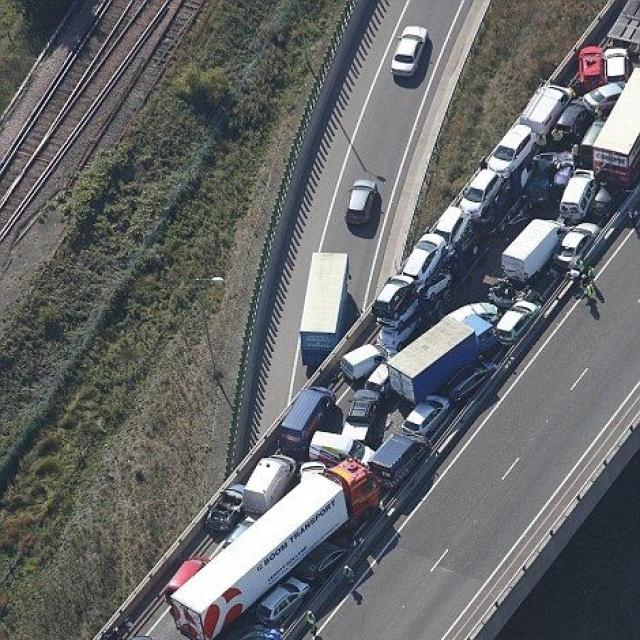traffic_incident: (433, 165, 632, 422)
